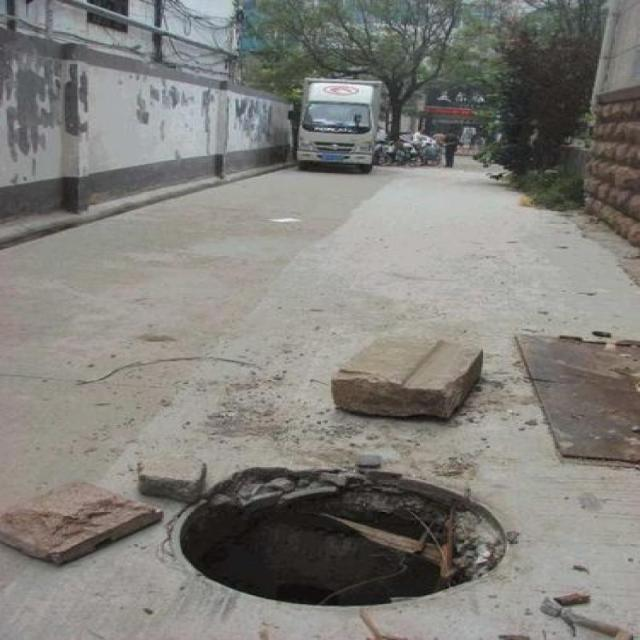hole: (178, 469, 506, 606)
